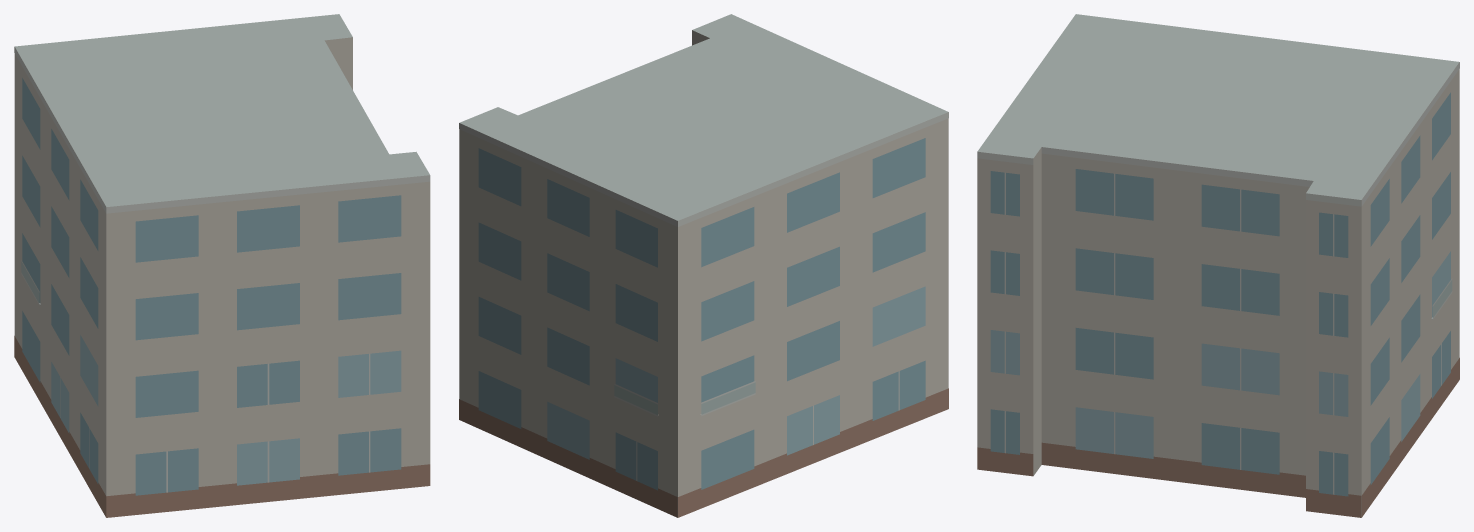
File: survey-upis-32876124.glb
The picture shows the model from 3 angles, left to right: view 1: azimuth 30°, elevation 25°; view 2: azimuth 150°, elevation 25°; view 3: azimuth 270°, elevation 25°; orthographic projection. The views are drawn at different scales.
Visible parts, largest first — view 1: survey-upis-32876124.tmp; view 2: survey-upis-32876124.tmp; view 3: survey-upis-32876124.tmp.
Boxes of the visible parts, box(x1,y1,x2,y2) form: survey-upis-32876124.tmp: box(14, 14, 430, 517); survey-upis-32876124.tmp: box(459, 14, 948, 517); survey-upis-32876124.tmp: box(977, 14, 1459, 517).
Size of the model in its own units: 14.7 by 11.7 by 16.11.
